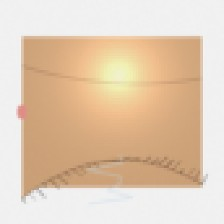foreign_body_visible: (57, 112, 82, 132)
